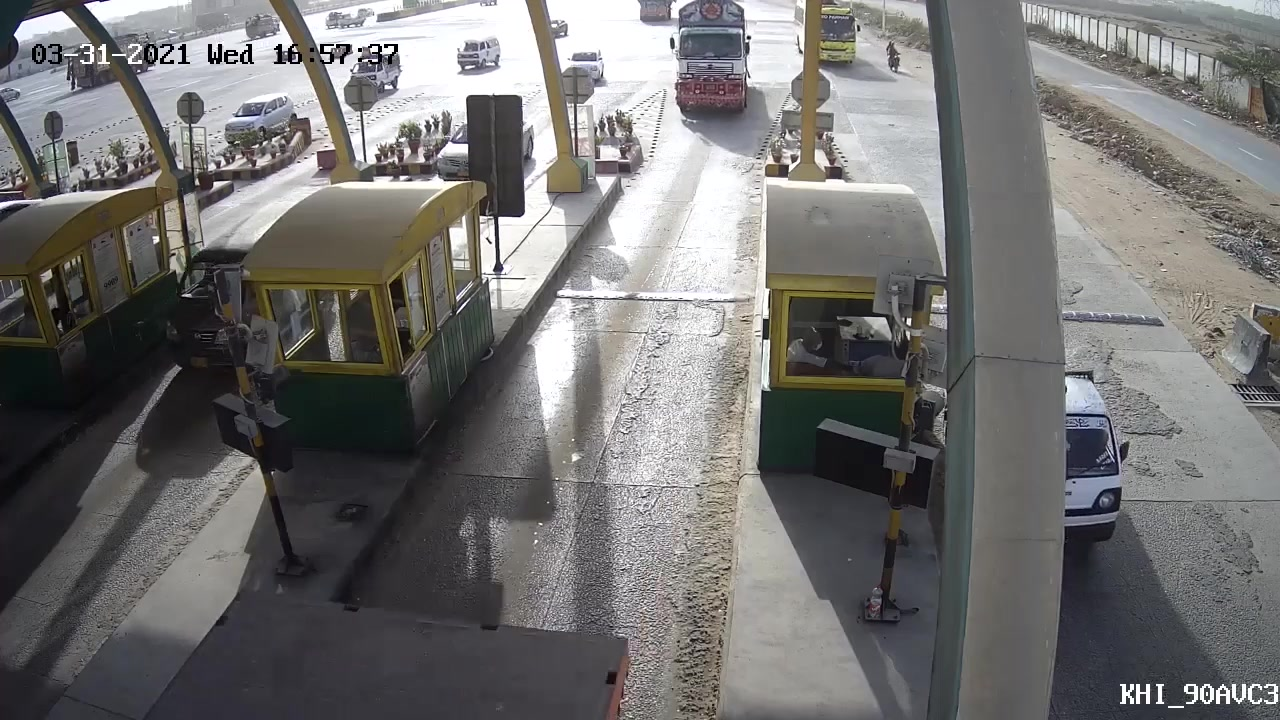F5: (646, 3, 759, 121)
